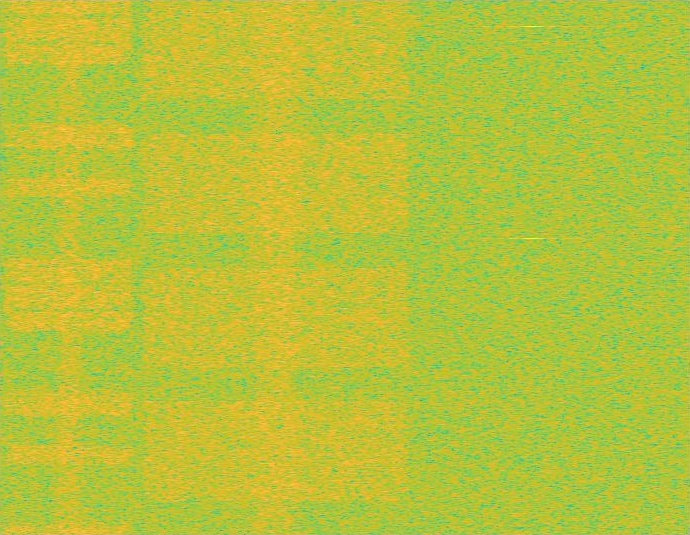5G: (138, 0, 414, 534)
DSSS: (245, 0, 307, 534), (53, 0, 85, 534)
LTE: (0, 0, 138, 534)
Radar: (526, 0, 540, 534)
